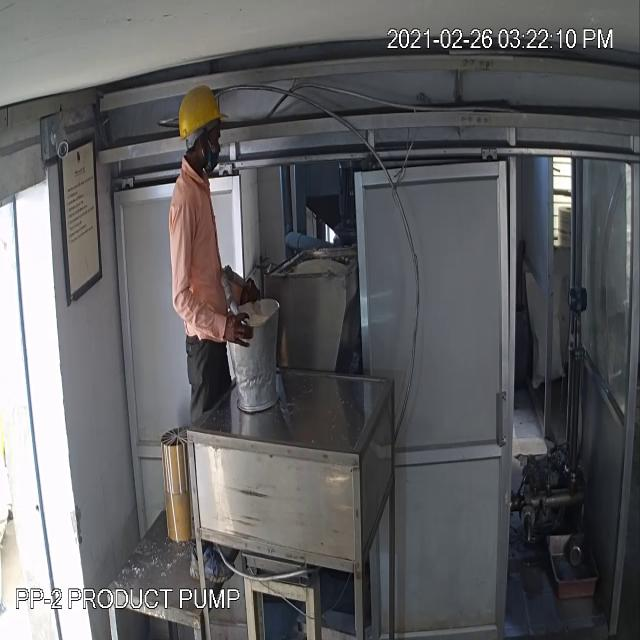Hardhat: (179, 87, 226, 139)
No Glove: (224, 311, 254, 347), (241, 278, 260, 302)
No Overall Suit: (169, 158, 228, 342)
Safety Boots: (204, 542, 232, 583), (190, 547, 199, 580), (225, 550, 238, 562)
